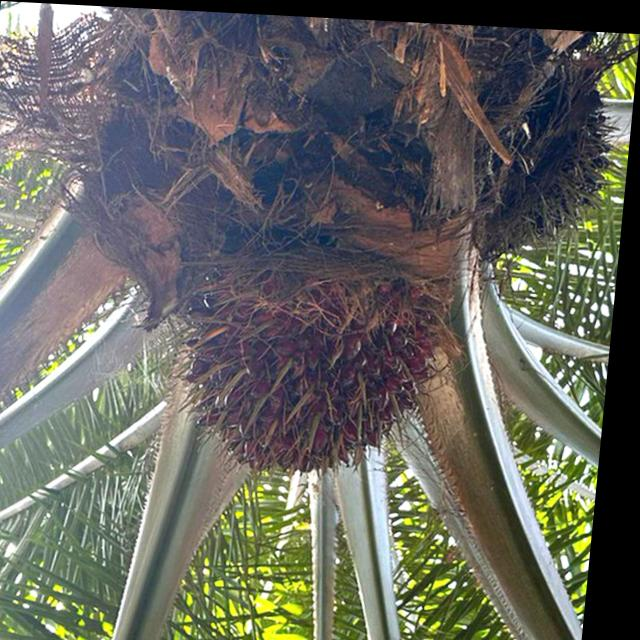ripe: (164, 266, 459, 488), (454, 25, 622, 259)
